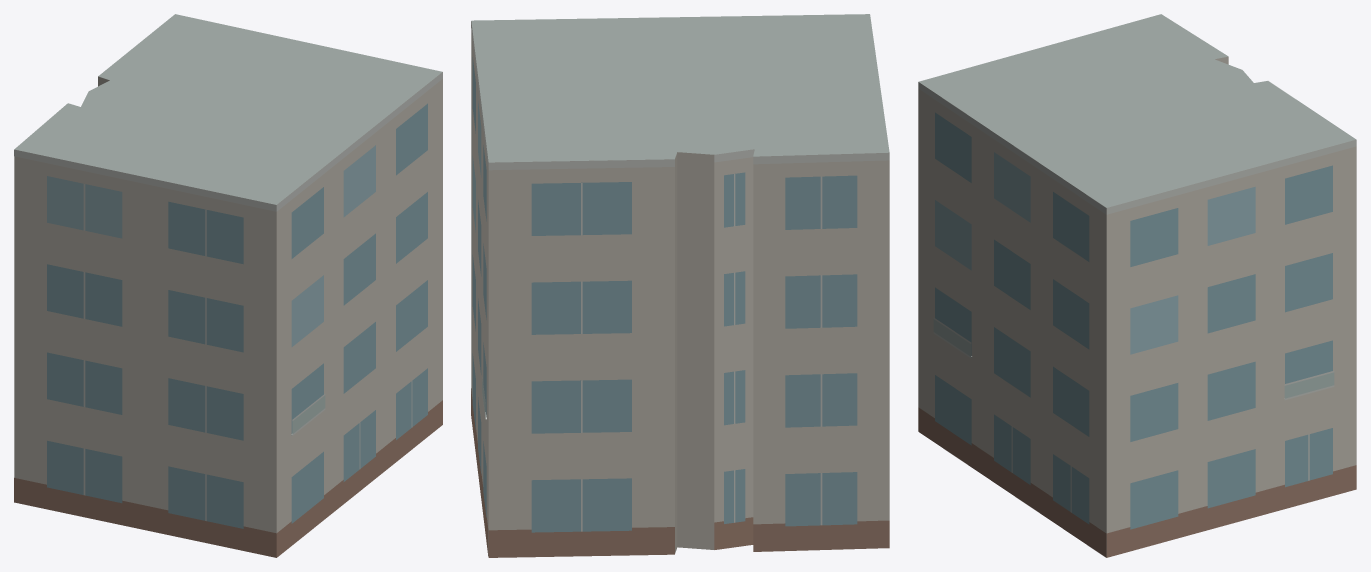
File: survey-upis-32606090.glb
3 views of the same model, side by side, from view 1: azimuth 30°, elevation 25°; view 2: azimuth 150°, elevation 25°; view 3: azimuth 270°, elevation 25° (orthographic). The views are drawn at different scales.
Parts seen in each view (by area): view 1: survey-upis-32606090.tmp; view 2: survey-upis-32606090.tmp; view 3: survey-upis-32606090.tmp.
Part boxes in pixels (x1,y1,x2,y2): survey-upis-32606090.tmp: [14, 14, 442, 557]; survey-upis-32606090.tmp: [471, 14, 889, 557]; survey-upis-32606090.tmp: [918, 14, 1356, 557].
Size of the model in its own units: 14.97 by 12.58 by 14.29.
